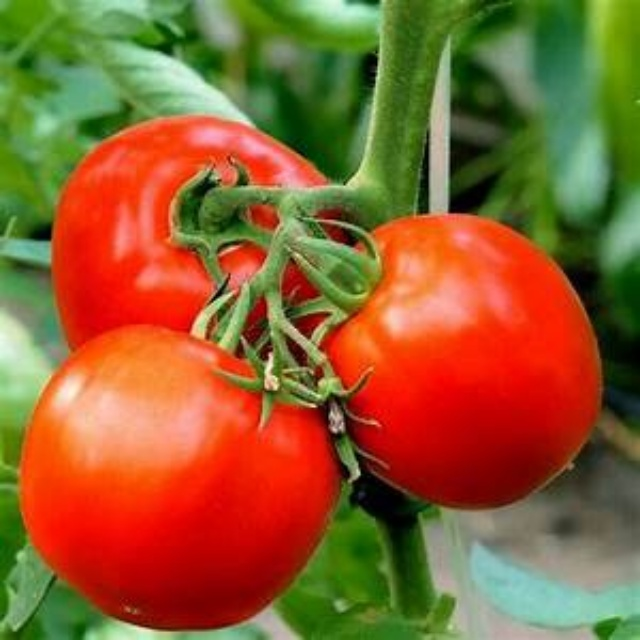tomato: (298, 205, 614, 511), (26, 328, 335, 622), (44, 110, 357, 381)
